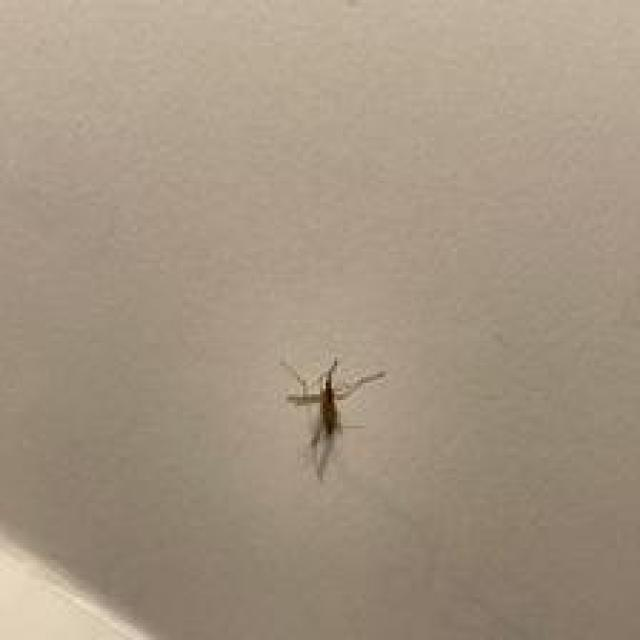Culex: (279, 356, 387, 481)
